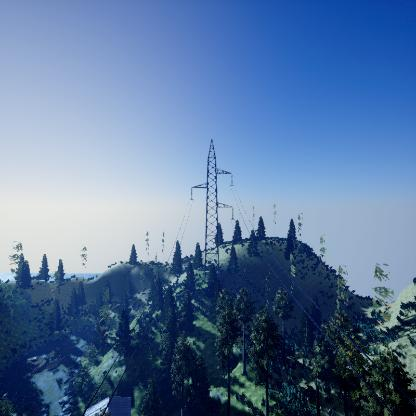tower: (188, 134, 238, 289)
